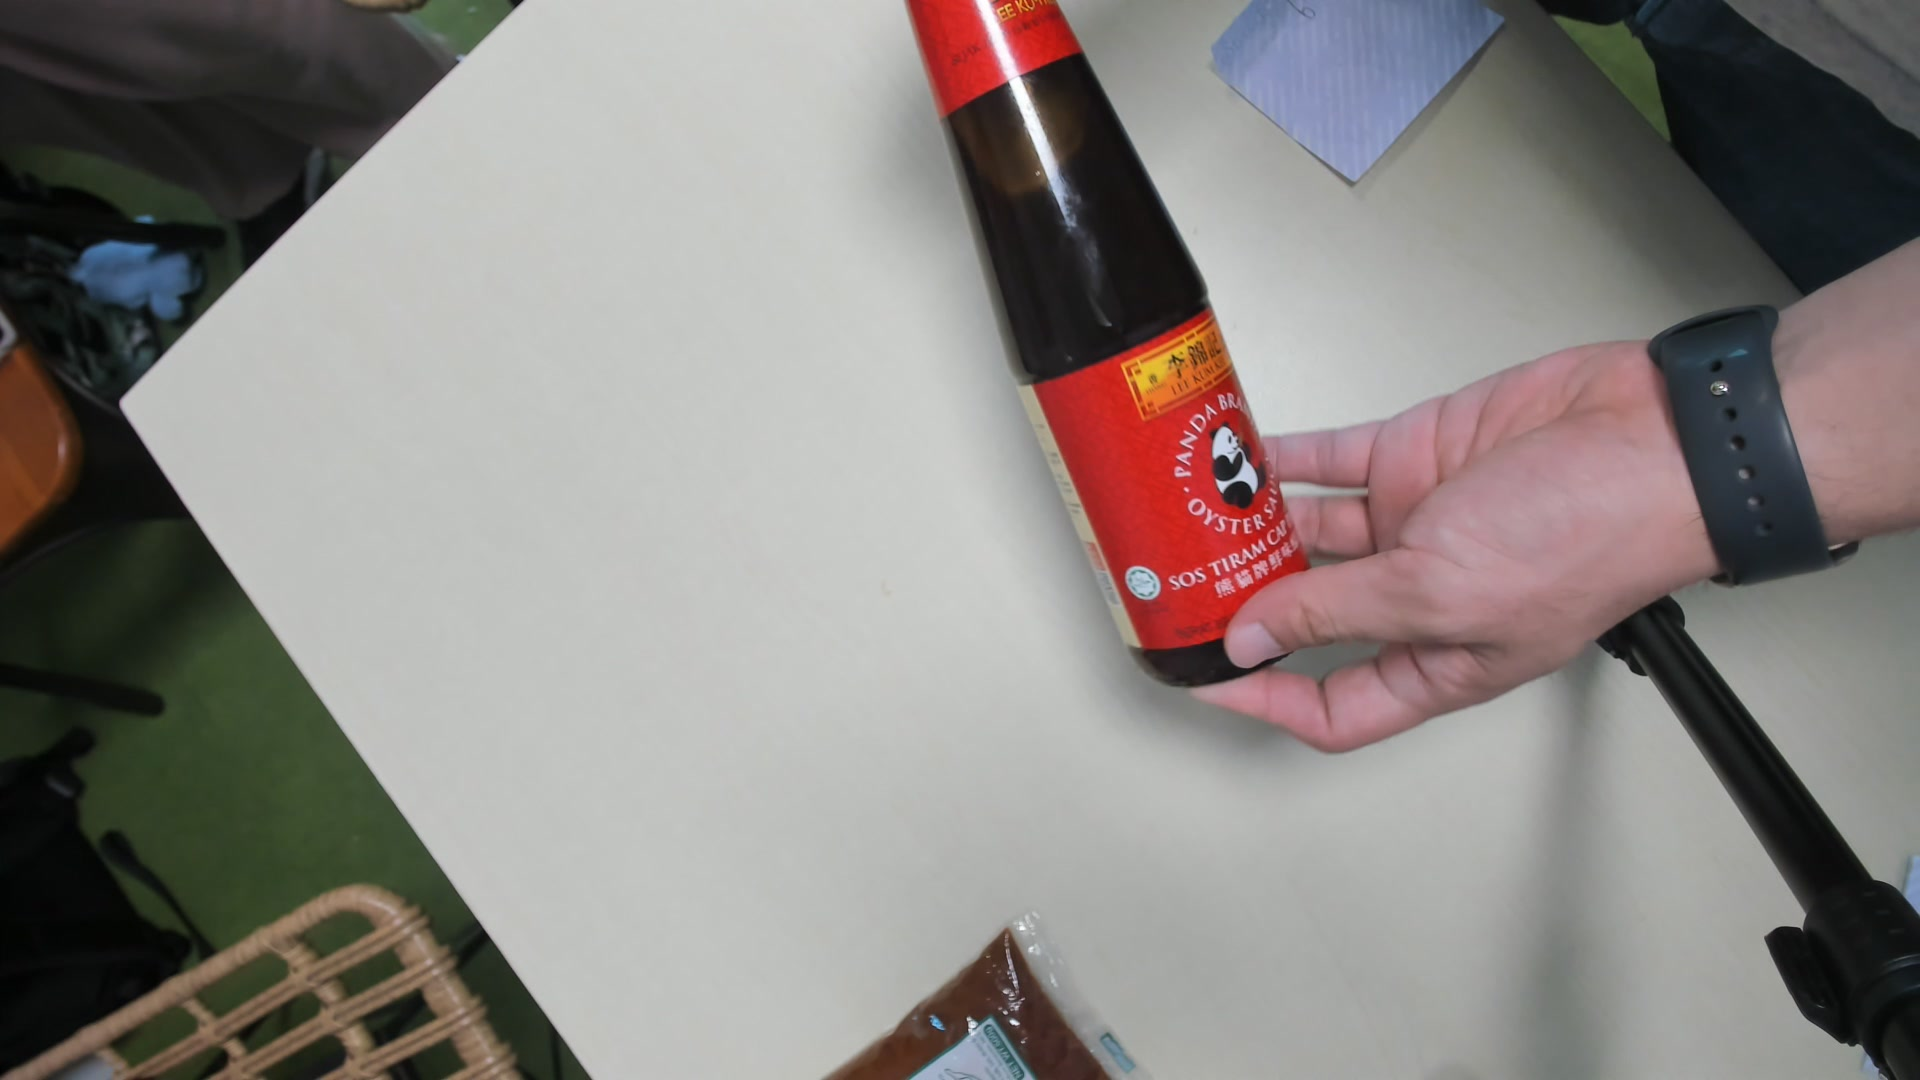OtherSauceDressingSoupbasePaste_500-599g_Halal_NonHealthy: (905, 1, 1316, 695)
